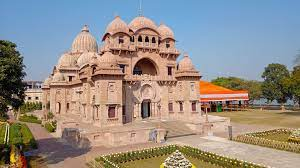Temple: (39, 14, 211, 135)
